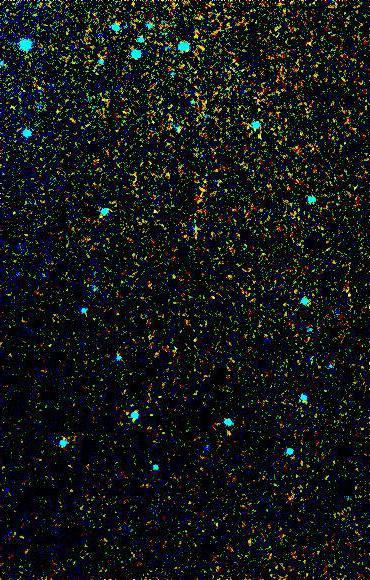star: (214, 419, 244, 449)
